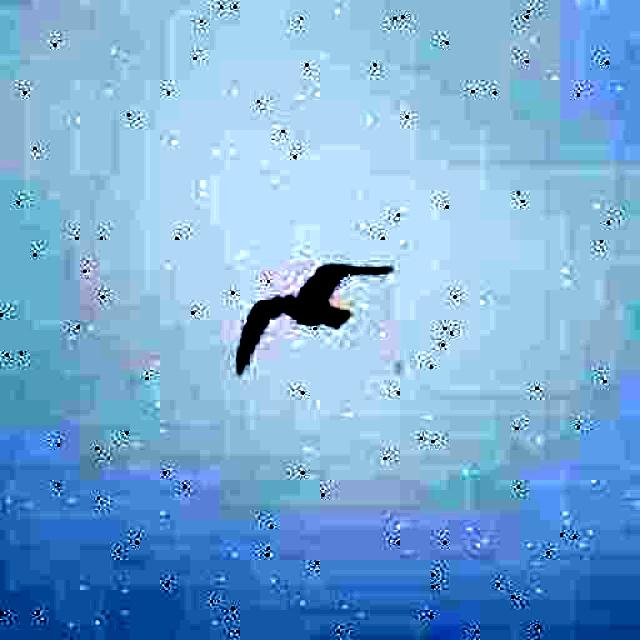airplane: (234, 264, 396, 378)
